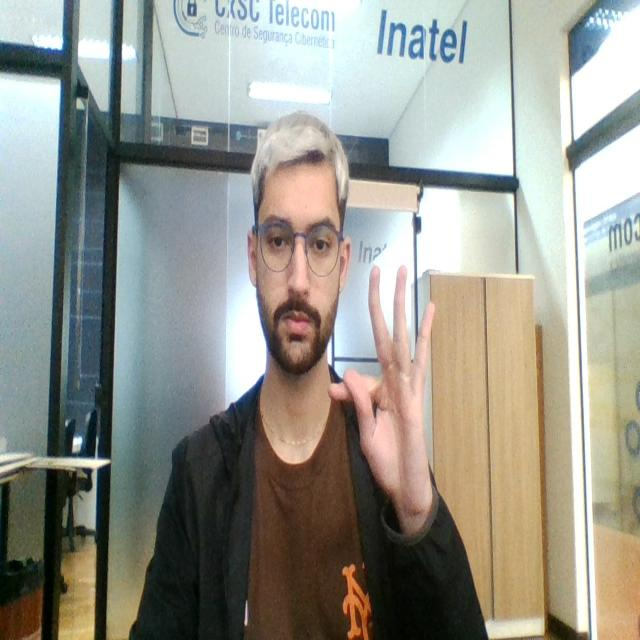T: (329, 249, 439, 508)
